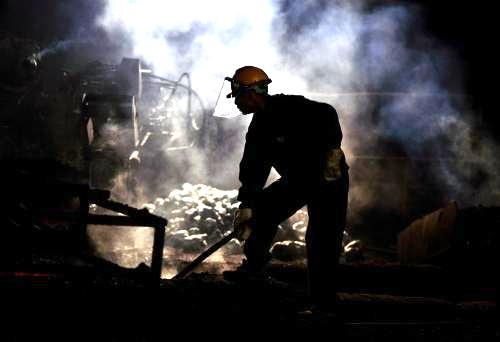helmet: (225, 65, 272, 115)
